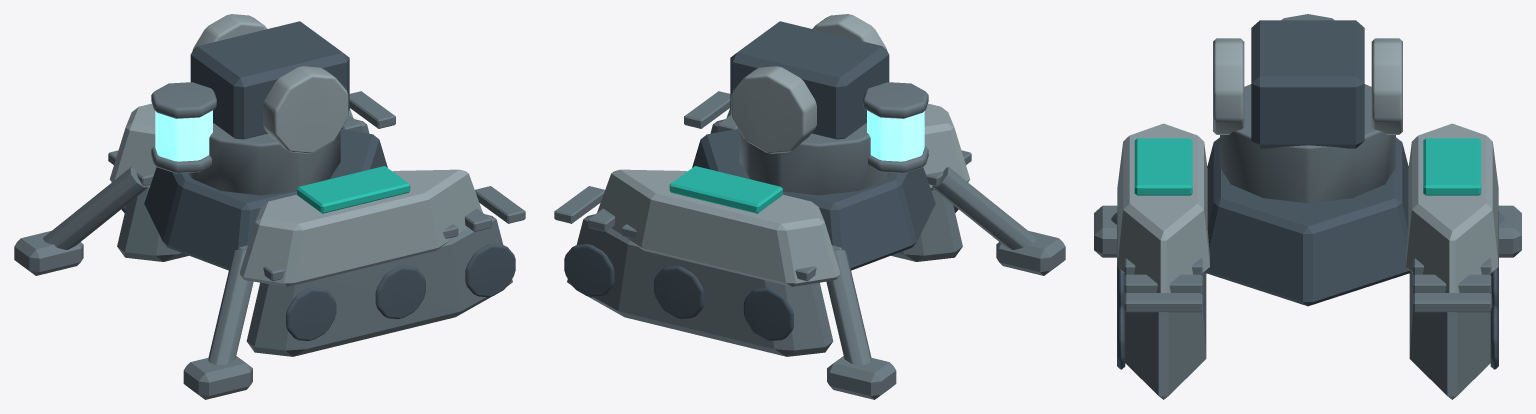
File: SM_Cinderthrow_Body.fbx
3 views of the same model, side by side, from view 1: azimuth 30°, elevation 25°; view 2: azimuth 150°, elevation 25°; view 3: azimuth 270°, elevation 25° (orthographic). The views are drawn at different scales.
Parts seen in each view (by area): view 1: SM_Cinderthrow_Body; view 2: SM_Cinderthrow_Body; view 3: SM_Cinderthrow_Body.
Part boxes in pixels (x1,y1,x2,y2): SM_Cinderthrow_Body: (14,14,525,399); SM_Cinderthrow_Body: (554,14,1065,399); SM_Cinderthrow_Body: (1094,14,1521,399).
Bounding box in the file's own units: 42.73 × 41.85 × 30.
